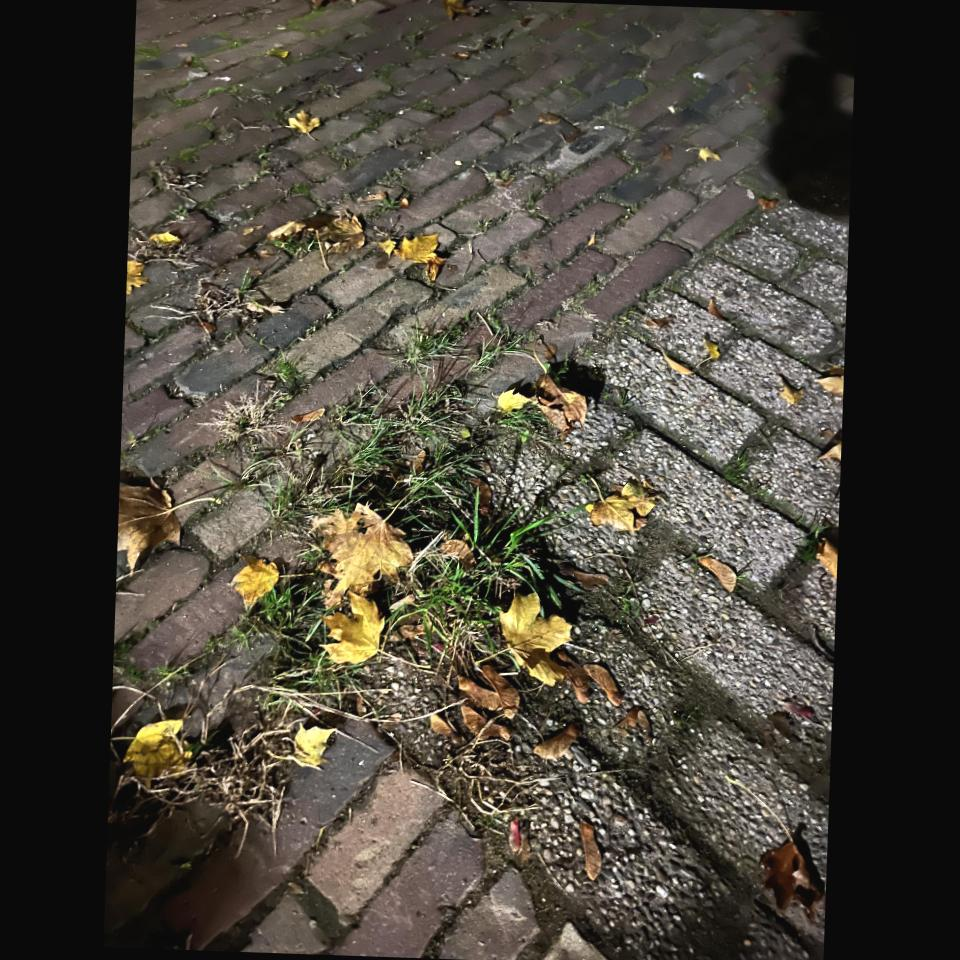weed: (209, 310, 549, 708), (158, 28, 258, 112), (215, 498, 287, 609), (289, 107, 395, 165)
